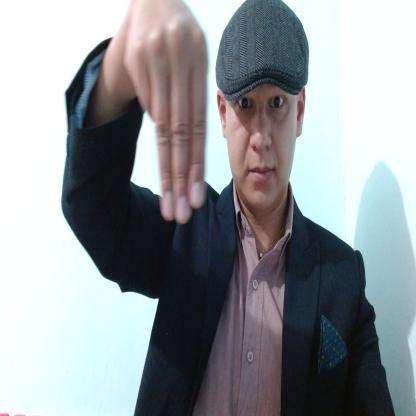M: (122, 0, 207, 225)
